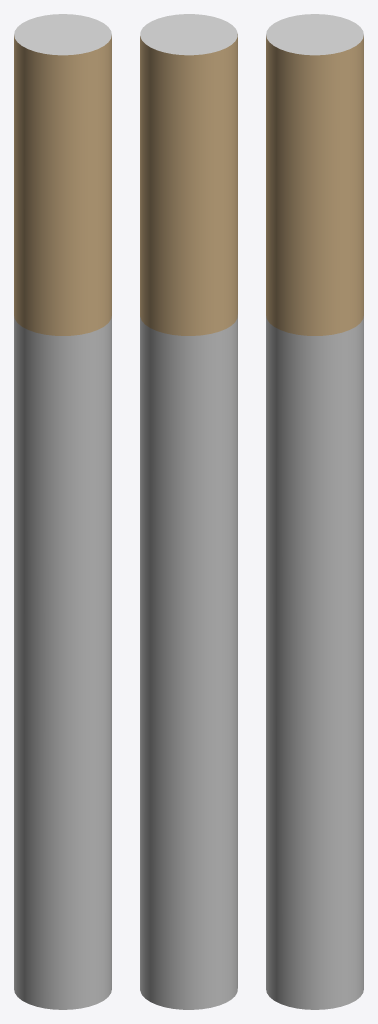
File: タバコ一本.fbx
3 renders of one model, left to right at view 1: azimuth 90°, elevation 25°; view 2: azimuth 150°, elevation 25°; view 3: azimuth 270°, elevation 25°, orthographic.
Visible parts, largest first — view 1: Body; view 2: Body; view 3: Body.
Part boxes in pixels (x1,y1,x2,y2): Body: (14, 14, 111, 1009); Body: (140, 14, 237, 1009); Body: (266, 14, 363, 1009).
Size of the model in its own units: 0.79 by 8.5 by 0.79.
